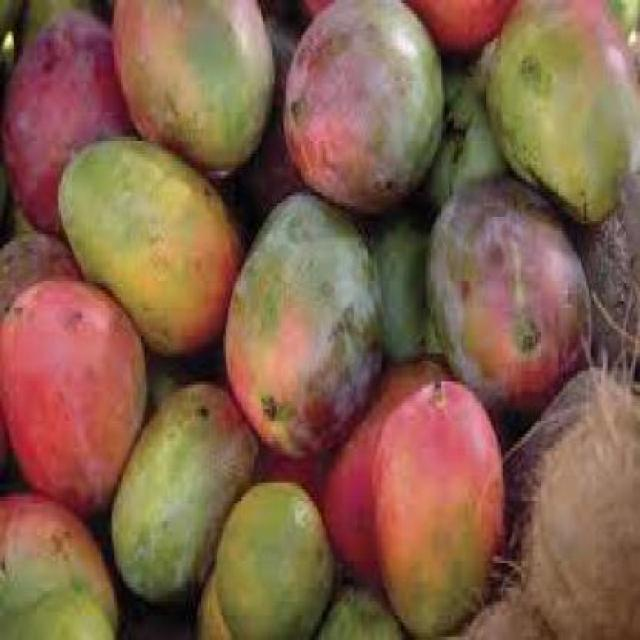BIODEGRADABLE: (223, 194, 386, 457), (57, 137, 245, 358), (490, 365, 640, 640), (428, 177, 591, 411), (477, 0, 640, 231), (109, 385, 265, 605), (283, 2, 440, 217), (372, 383, 503, 640), (0, 280, 146, 491), (6, 15, 134, 238), (112, 0, 272, 178), (212, 483, 335, 640), (0, 495, 117, 640), (568, 175, 640, 391), (415, 69, 509, 214), (0, 207, 85, 302), (402, 0, 518, 63), (318, 578, 409, 640), (468, 583, 560, 640)
